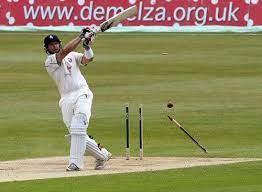stumps: (165, 113, 210, 156), (125, 101, 145, 160)
